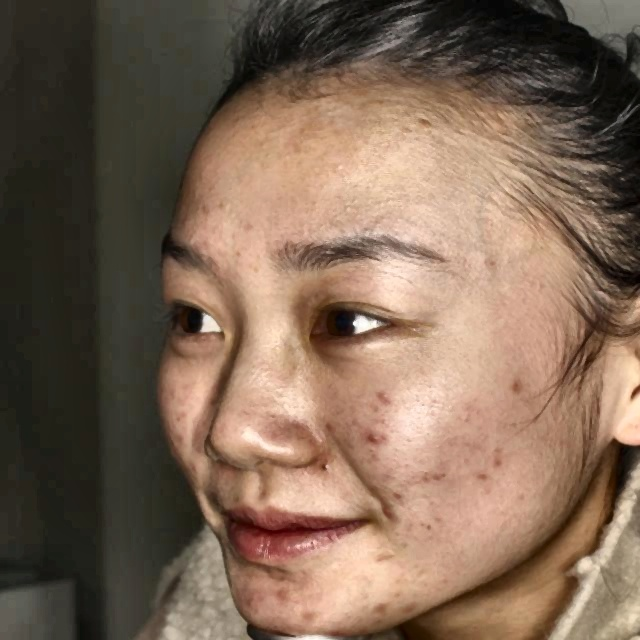pustule: (361, 421, 393, 454), (272, 584, 295, 617), (400, 597, 428, 620), (374, 380, 396, 408), (298, 604, 320, 631), (505, 373, 531, 394), (374, 596, 390, 618)
